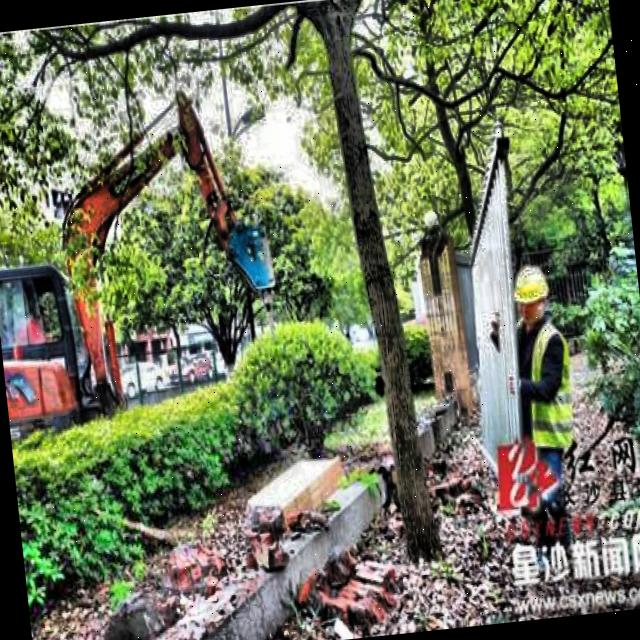helmet: (508, 262, 554, 328)
